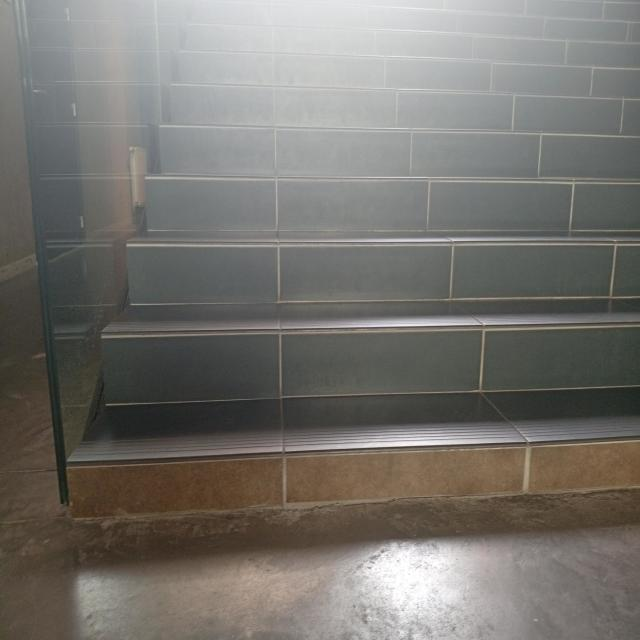Stairs: (31, 117, 616, 556)
